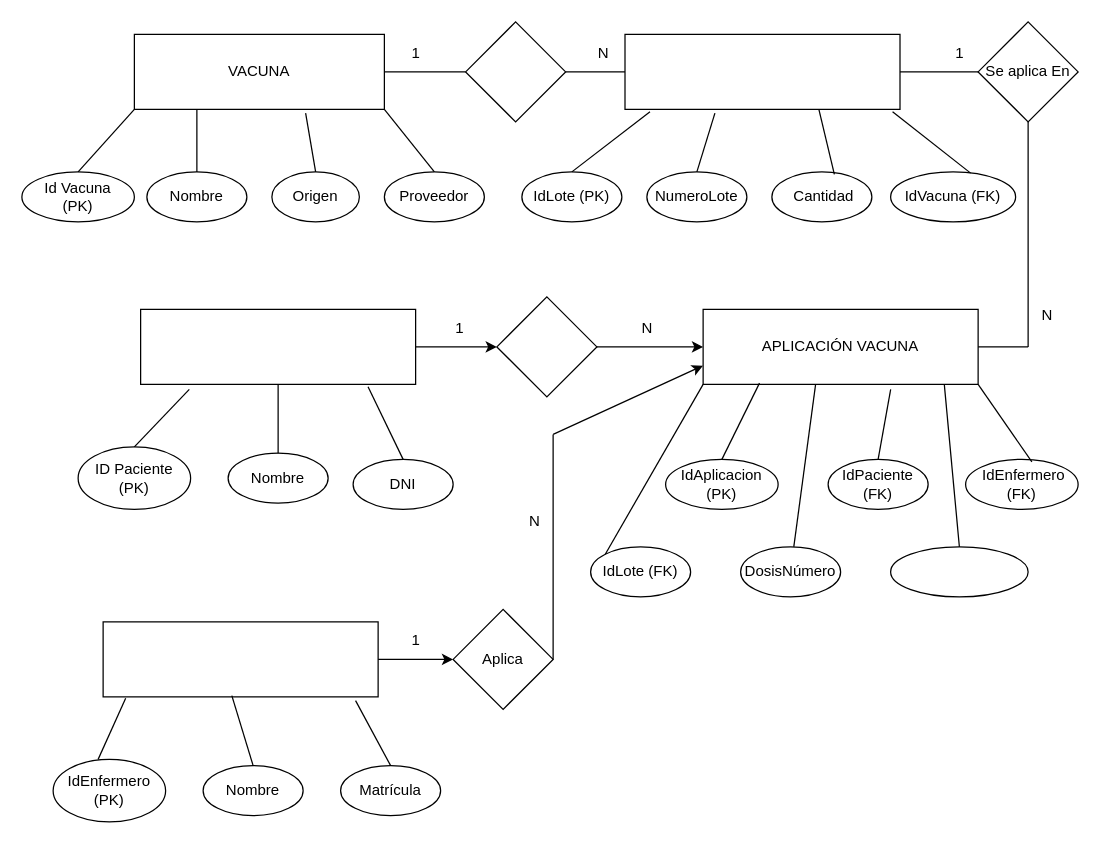
Some shapes in this 1100 by 844 pixel diagram are drawn without their labels. The shapes that lost their labels are listed below. From the top down, each one's centre as x and y in pixels, then its label:
At point (515, 71): "Pertenece".
At point (762, 71): "LOTE".
At point (277, 346): "PACIENTE".
At point (546, 346): "Recibe".
At point (958, 571): "FechaAplicacion".
At point (240, 659): "ENFERMERO".
